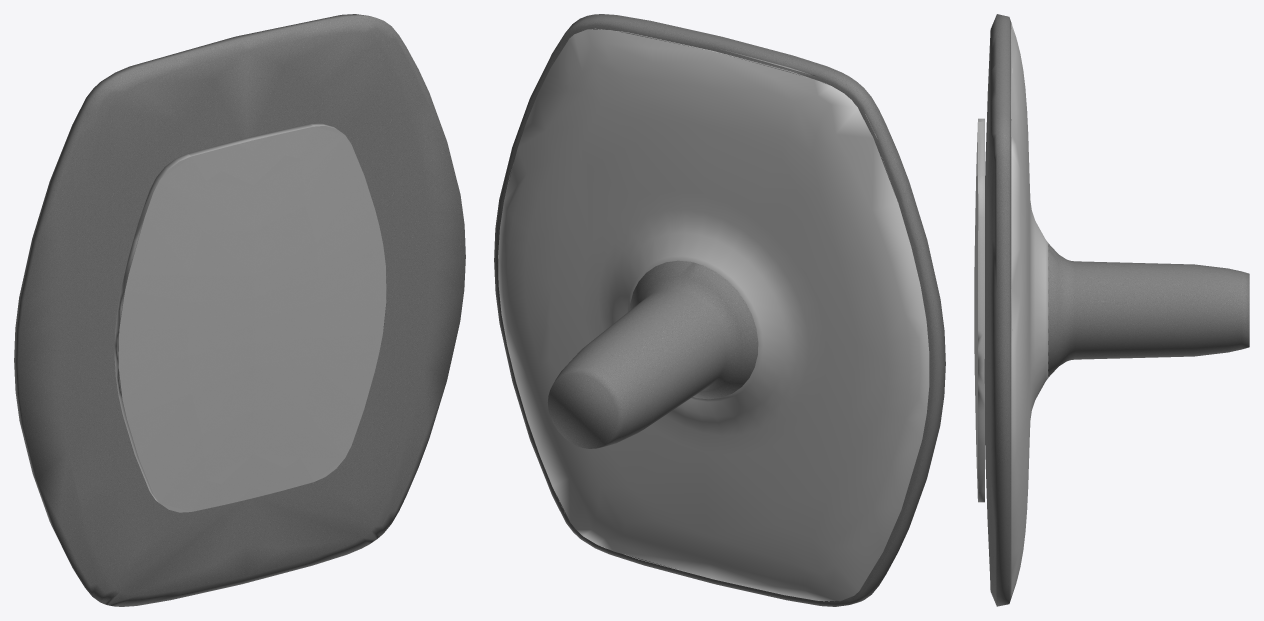
3 views of the same model, side by side, from view 1: azimuth 30°, elevation 25°; view 2: azimuth 150°, elevation 25°; view 3: azimuth 270°, elevation 25° (orthographic). The views are drawn at different scales.
Visible parts, largest first — view 1: Siteco_DL_30_5XA5132T1B08A3; view 2: Siteco_DL_30_5XA5132T1B08A3; view 3: Siteco_DL_30_5XA5132T1B08A3.
Part boxes in pixels (left/top/right/bottom): Siteco_DL_30_5XA5132T1B08A3: left=14, top=14, right=465, bottom=606; Siteco_DL_30_5XA5132T1B08A3: left=494, top=14, right=945, bottom=606; Siteco_DL_30_5XA5132T1B08A3: left=974, top=14, right=1249, bottom=606.
Size of the model in its own units: 0.5097 by 0.5935 by 0.2992.
